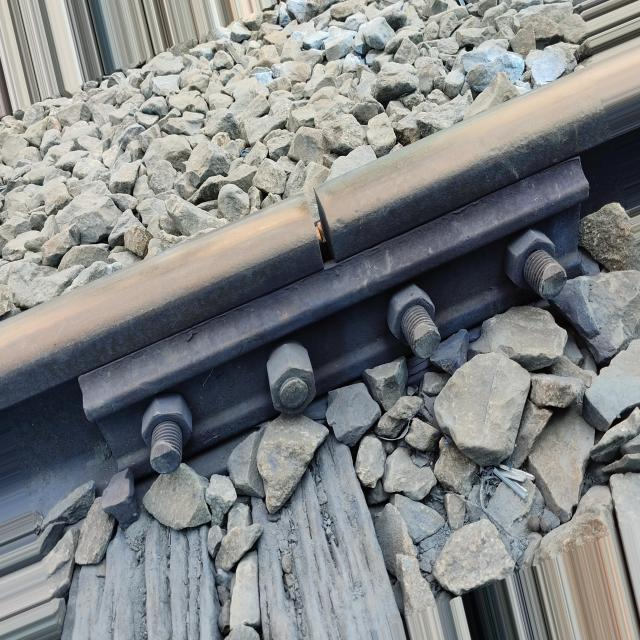Good Fasteners: (102, 468, 140, 528)
Good Joint: (74, 157, 600, 482)
